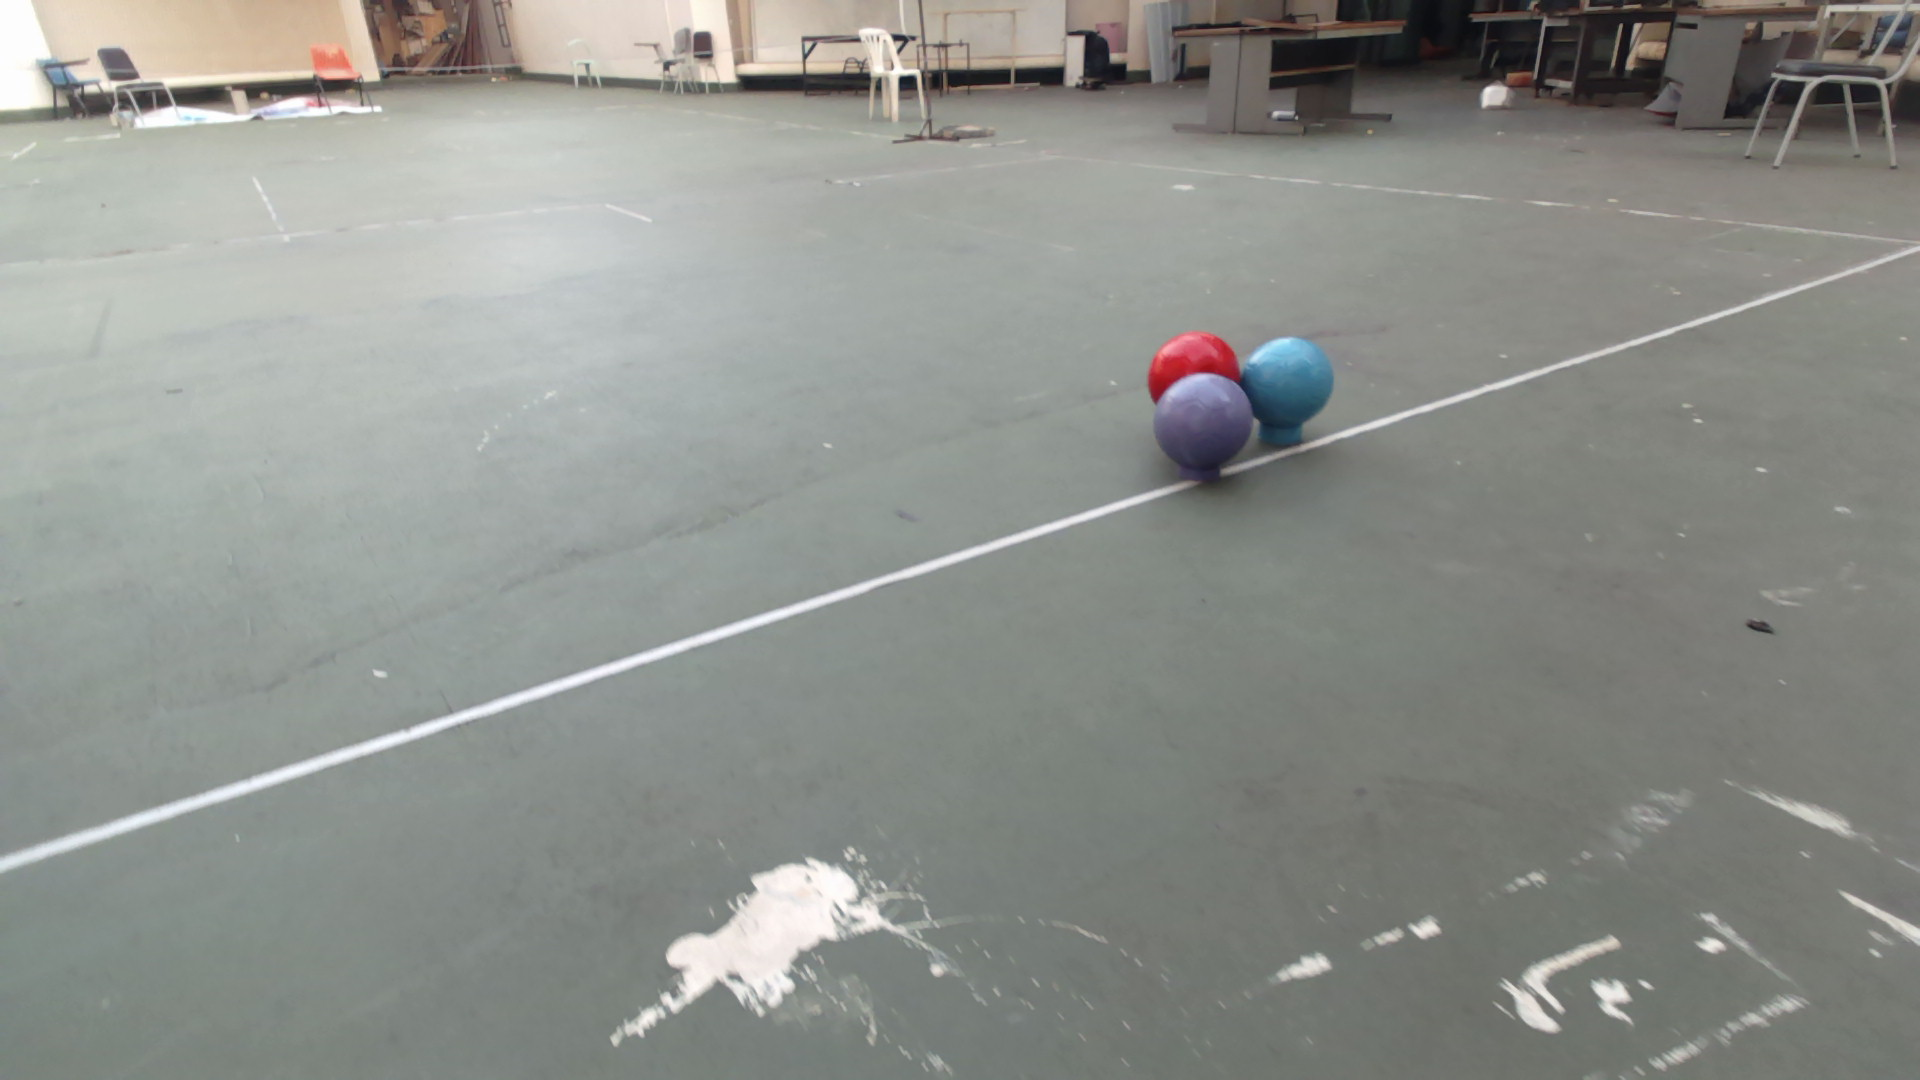Blue ball: (1241, 334, 1335, 427)
Purple ball: (1153, 371, 1254, 472)
Red ball: (1147, 328, 1242, 396)
